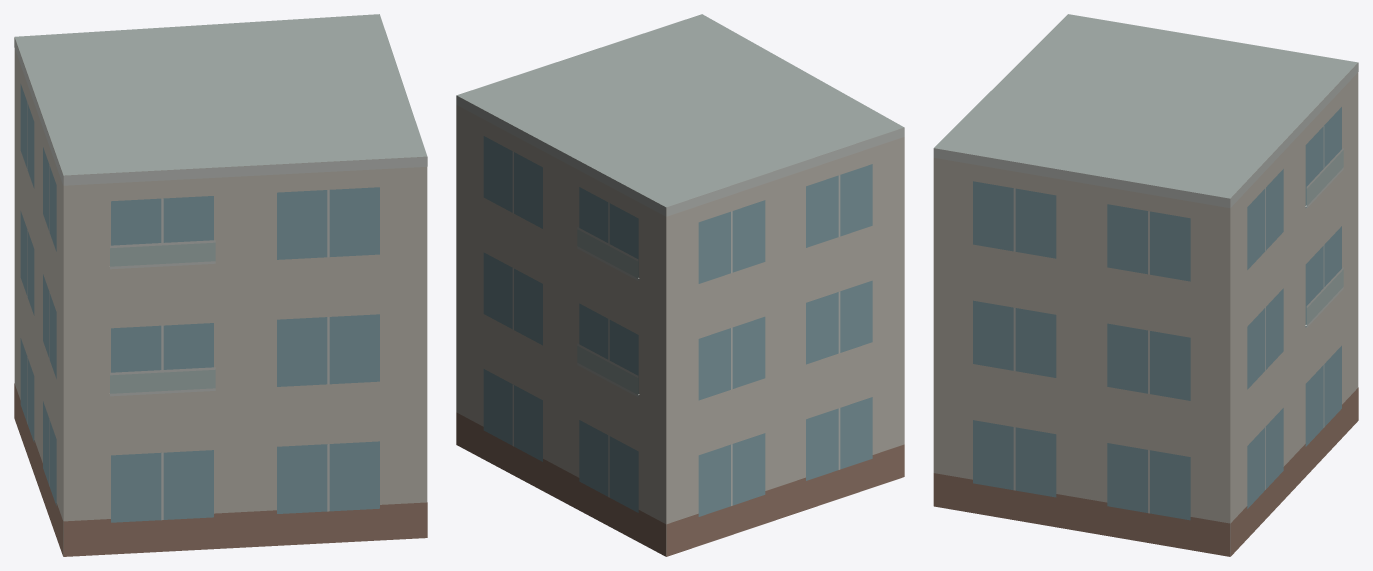
Rendered from survey-upis-32980158.glb.
3 views of the same model, side by side, from view 1: azimuth 30°, elevation 25°; view 2: azimuth 150°, elevation 25°; view 3: azimuth 270°, elevation 25° (orthographic). The views are drawn at different scales.
Visible parts, largest first — view 1: survey-upis-32980158.tmp; view 2: survey-upis-32980158.tmp; view 3: survey-upis-32980158.tmp.
Boxes of the visible parts, box(x1,y1,x2,y2) form: survey-upis-32980158.tmp: box(14, 14, 427, 556); survey-upis-32980158.tmp: box(456, 14, 904, 556); survey-upis-32980158.tmp: box(933, 14, 1358, 556).
Bounding box in the file's own units: 10.07 × 9.1 × 9.79.
